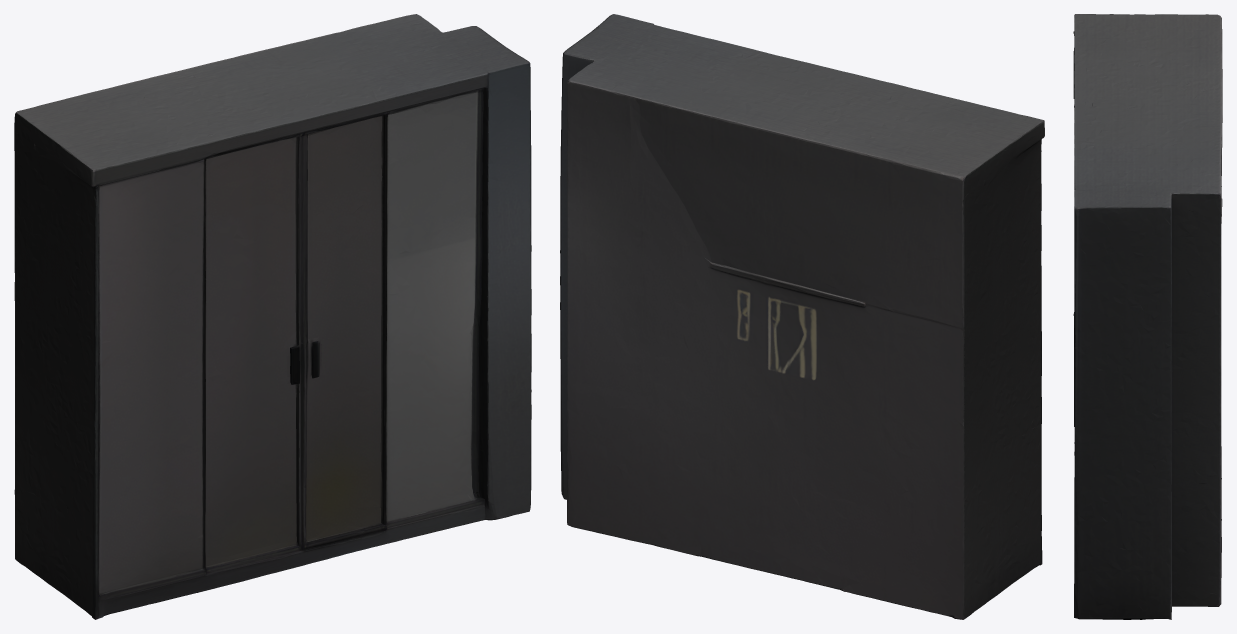
3 views of the same model, side by side, from view 1: azimuth 30°, elevation 25°; view 2: azimuth 150°, elevation 25°; view 3: azimuth 270°, elevation 25° (orthographic). The views are drawn at different scales.
Visible parts, largest first — view 1: world; view 2: world; view 3: world.
Boxes of the visible parts, x1,y1,x2,y2 form: world: (14,14,531,619); world: (560,14,1044,619); world: (1073,14,1222,619).
Bounding box in the file's own units: 0.9997 × 0.9825 × 0.3208.
1 material, 1 textured.
